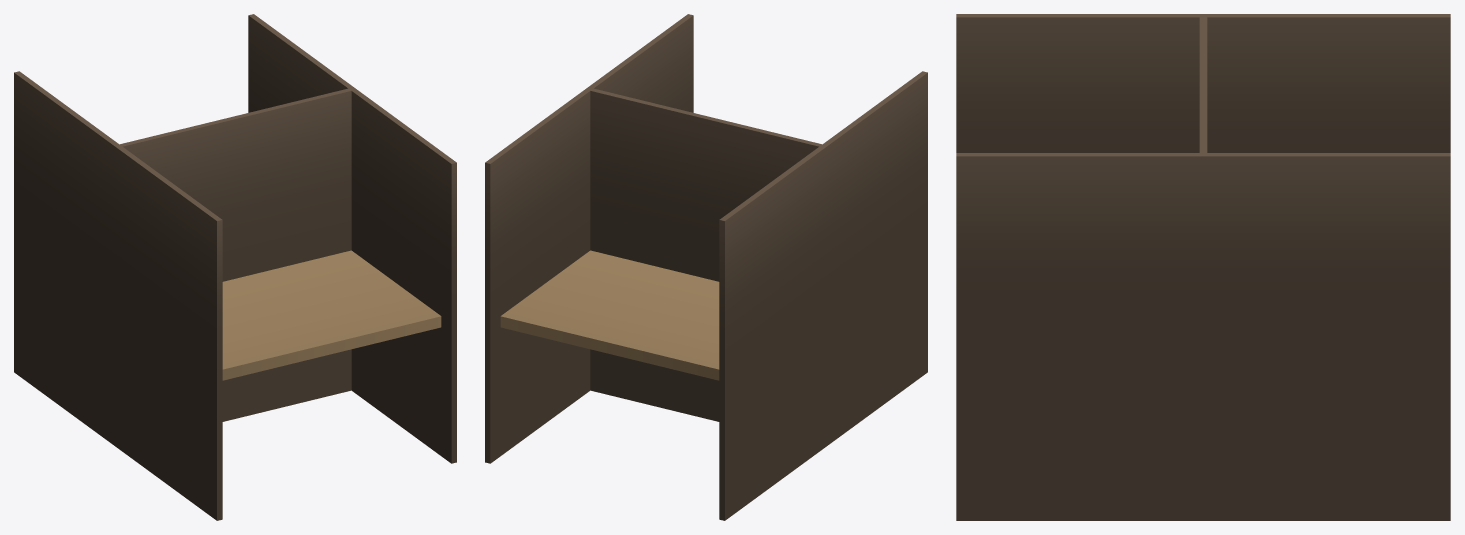
File: SM_CubicleEmpty.fbx
3 views of the same model, side by side, from view 1: azimuth 30°, elevation 25°; view 2: azimuth 150°, elevation 25°; view 3: azimuth 270°, elevation 25° (orthographic). The views are drawn at different scales.
Visible parts, largest first — view 1: paredesCubiculo.001, paredesCubiculo, tableroCubiculo; view 2: paredesCubiculo.001, paredesCubiculo, tableroCubiculo; view 3: paredesCubiculo.001, paredesCubiculo.
Boxes of the visible parts, x1,y1,x2,y2 form: paredesCubiculo.001: (14,14,456,520); paredesCubiculo: (120,88,351,421); tableroCubiculo: (222,250,441,380); paredesCubiculo.001: (485,14,927,520); paredesCubiculo: (590,88,821,421); tableroCubiculo: (500,250,719,380); paredesCubiculo.001: (956,14,1450,520); paredesCubiculo: (1199,17,1207,152).
Size of the model in its own units: 134 by 160 by 196.
